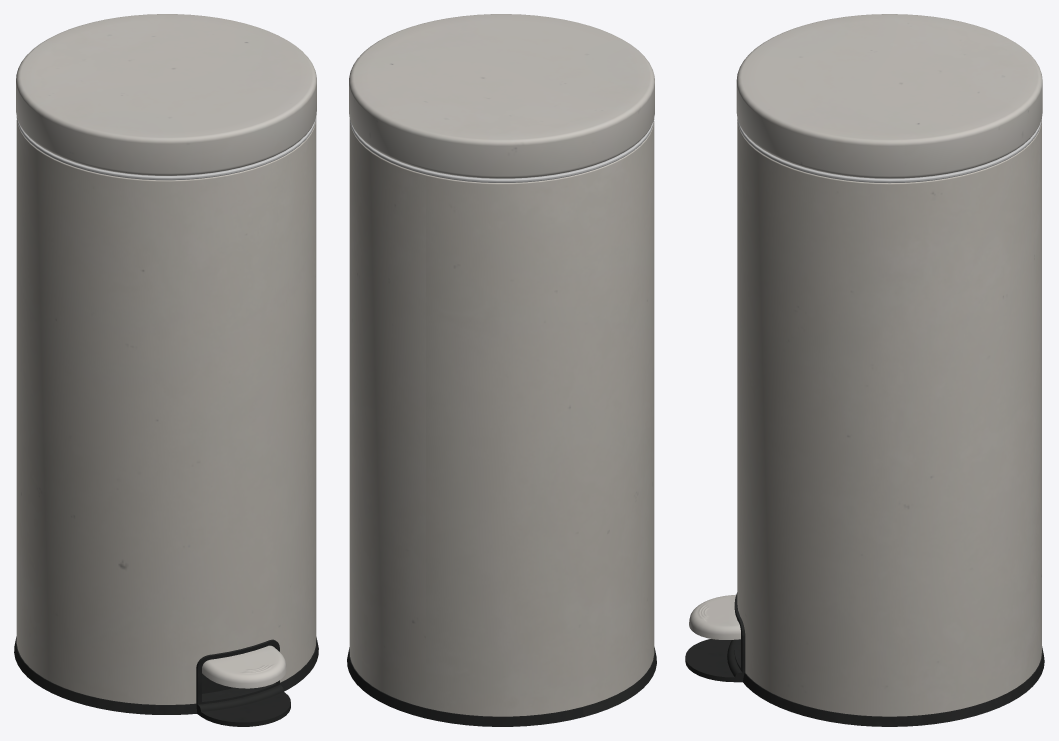
File: trashCan.fbx
3 views of the same model, side by side, from view 1: azimuth 30°, elevation 25°; view 2: azimuth 150°, elevation 25°; view 3: azimuth 270°, elevation 25° (orthographic).
Parts seen in each view (by area): view 1: KB3D_ECE_BldgIntPatientRoom_A_TrashCanB; view 2: KB3D_ECE_BldgIntPatientRoom_A_TrashCanB; view 3: KB3D_ECE_BldgIntPatientRoom_A_TrashCanB.
Part boxes in pixels (x1,y1,x2,y2): KB3D_ECE_BldgIntPatientRoom_A_TrashCanB: (14, 14, 318, 726); KB3D_ECE_BldgIntPatientRoom_A_TrashCanB: (347, 14, 656, 726); KB3D_ECE_BldgIntPatientRoom_A_TrashCanB: (685, 14, 1044, 726).
Size of the model in its own units: 33.68 by 70.06 by 39.04.
